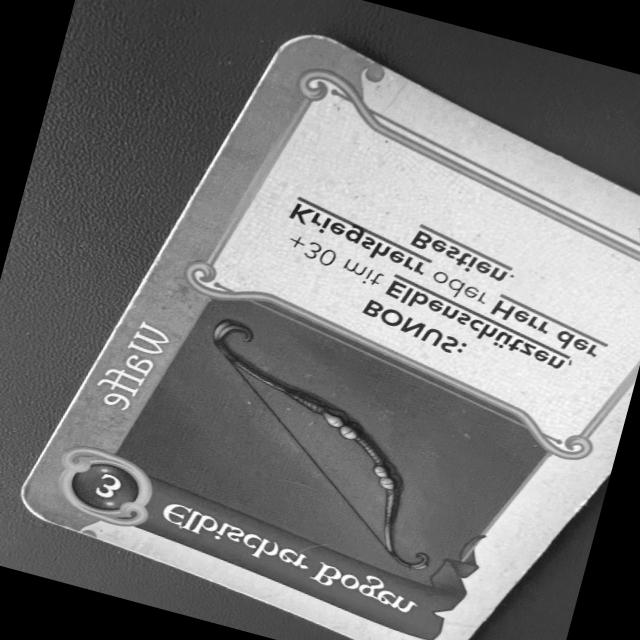Elven Longbow: (10, 22, 640, 640)
